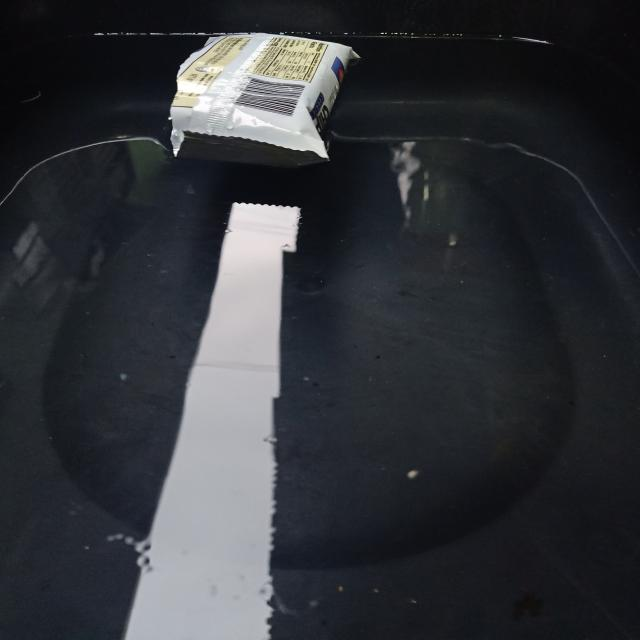Plastic Wrapper: (145, 19, 384, 174)
